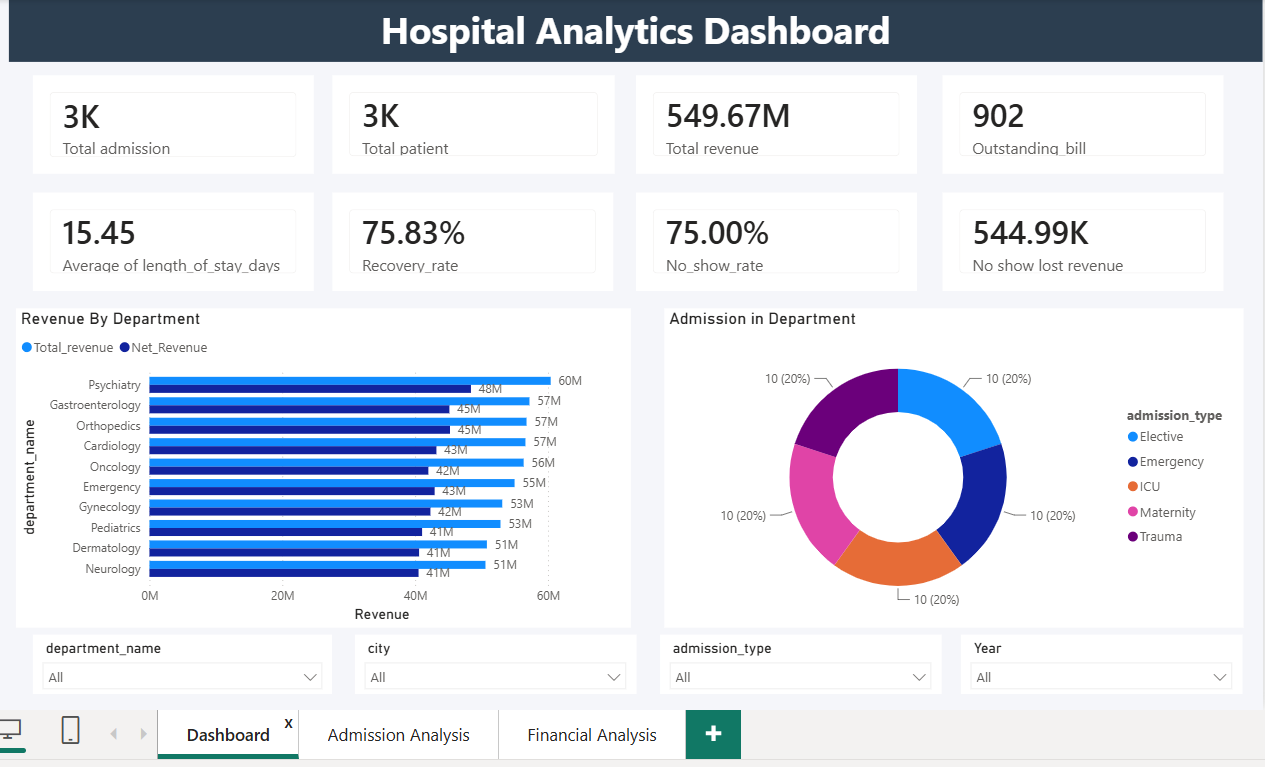

This screenshot's page, from the dashboard's own definition file:
{"tool":"powerbi","page":{"name":"Dashboard","canvas":[1280,720],"ordinal":0},"visuals":[{"type":"textbox","box":[10,0,1270,64],"z":0},{"type":"cardVisual","title":"dsff","fields":{"Data":["CountNonNull(hospital_db admissions.admission_id)"]},"box":[34.2,76.9,284.9,100],"z":1000},{"type":"cardVisual","fields":{"Data":["CountNonNull(hospital_db admissions.patient_id)"]},"box":[337.6,76.9,286.3,99.7],"z":2000},{"type":"cardVisual","fields":{"Data":["Sum(hospital_db billing.total_amount)"]},"box":[645.2,76.9,284.9,99.7],"z":3000},{"type":"cardVisual","fields":{"Data":["hospital_db admissions.Outstanding_bill"]},"box":[955.7,76.9,284.9,99.7],"z":4000},{"type":"cardVisual","fields":{"Data":["hospital_db admissions.Recovery_rate"]},"box":[337.6,196.6,284.9,99.7],"z":5000},{"type":"cardVisual","fields":{"Data":["Avg(hospital_db admissions.length_of_stay_days)"]},"box":[34.2,196.6,284.9,99.7],"z":6000},{"type":"cardVisual","fields":{"Data":["hospital_db admissions.No show lost revenue"]},"box":[955.7,196.6,284.9,99.7],"z":7000},{"type":"cardVisual","fields":{"Data":["hospital_db appointments.No_show_rate"]},"box":[645.2,196.6,284.9,99.7],"z":8000},{"type":"clusteredBarChart","title":"Revenue By Department","fields":{"Category":["hospital_db departments.department_name"],"Y":["Sum(hospital_db billing.total_amount)","Sum(hospital_db billing.net_payable)"]},"box":[16.7,313.3,623.3,323.3],"z":9000},{"type":"donutChart","title":"Admission in Department","fields":{"Category":["hospital_db admissions.admission_type"],"Y":["CountNonNull(hospital_db departments.department_name)"]},"box":[673.3,313.3,586.7,323.3],"z":10000},{"type":"slicer","fields":{"Values":["hospital_db departments.department_name"]},"box":[35,643.3,303.3,60],"z":11000},{"type":"slicer","fields":{"Values":["hospital_db admissions.admission_type"]},"box":[670,643.3,285,60],"z":12000},{"type":"slicer","fields":{"Values":["hospital_db admissions.admission_date.Variation.Date Hierarchy.Year"]},"box":[975,643.3,285,60],"z":13000},{"type":"slicer","fields":{"Values":["hospital_db patients.city"]},"box":[360,643.3,285,60],"z":14000}]}

Visuals, with their boxes on the page's 1280x720 design canvas (x1, y1, x2, y2). These are canvas units, not pixel positions in the 1265x767 screenshot, which may show the page scaled, cropped or inside an application window:
textbox: rect(10, 0, 1280, 64)
"dsff" cardVisual: rect(34, 77, 319, 177)
cardVisual - CountNonNull(hospital_db admissions.patient_id): rect(338, 77, 624, 177)
cardVisual - Sum(hospital_db billing.total_amount): rect(645, 77, 930, 177)
cardVisual - hospital_db admissions.Outstanding_bill: rect(956, 77, 1241, 177)
cardVisual - hospital_db admissions.Recovery_rate: rect(338, 197, 622, 296)
cardVisual - Avg(hospital_db admissions.length_of_stay_days): rect(34, 197, 319, 296)
cardVisual - hospital_db admissions.No show lost revenue: rect(956, 197, 1241, 296)
cardVisual - hospital_db appointments.No_show_rate: rect(645, 197, 930, 296)
"Revenue By Department" clusteredBarChart: rect(17, 313, 640, 637)
"Admission in Department" donutChart: rect(673, 313, 1260, 637)
slicer - hospital_db departments.department_name: rect(35, 643, 338, 703)
slicer - hospital_db admissions.admission_type: rect(670, 643, 955, 703)
slicer - hospital_db admissions.admission_date.Variation.Date Hierarchy.Year: rect(975, 643, 1260, 703)
slicer - hospital_db patients.city: rect(360, 643, 645, 703)
